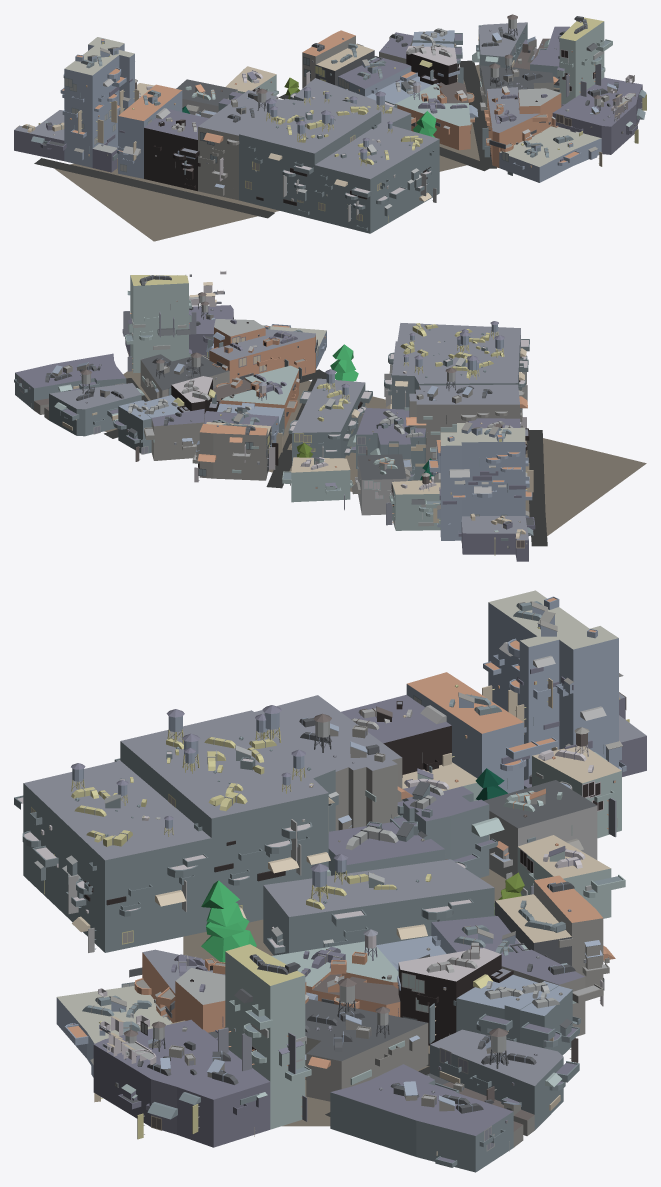
File: MN_Env2.fbx
The picture shows the model from 3 angles, top to bottom: view 1: azimuth 30°, elevation 25°; view 2: azimuth 150°, elevation 25°; view 3: azimuth 270°, elevation 25°; orthographic projection. The views are drawn at different scales.
Visible parts, largest first — view 1: Env_MN_02; view 2: Env_MN_02; view 3: Env_MN_02.
Part boxes in pixels (x1,y1,x2,y2): Env_MN_02: [14, 14, 646, 241]; Env_MN_02: [14, 271, 646, 561]; Env_MN_02: [14, 590, 646, 1172].
Size of the model in its own units: 9200 by 1780 by 5499.
